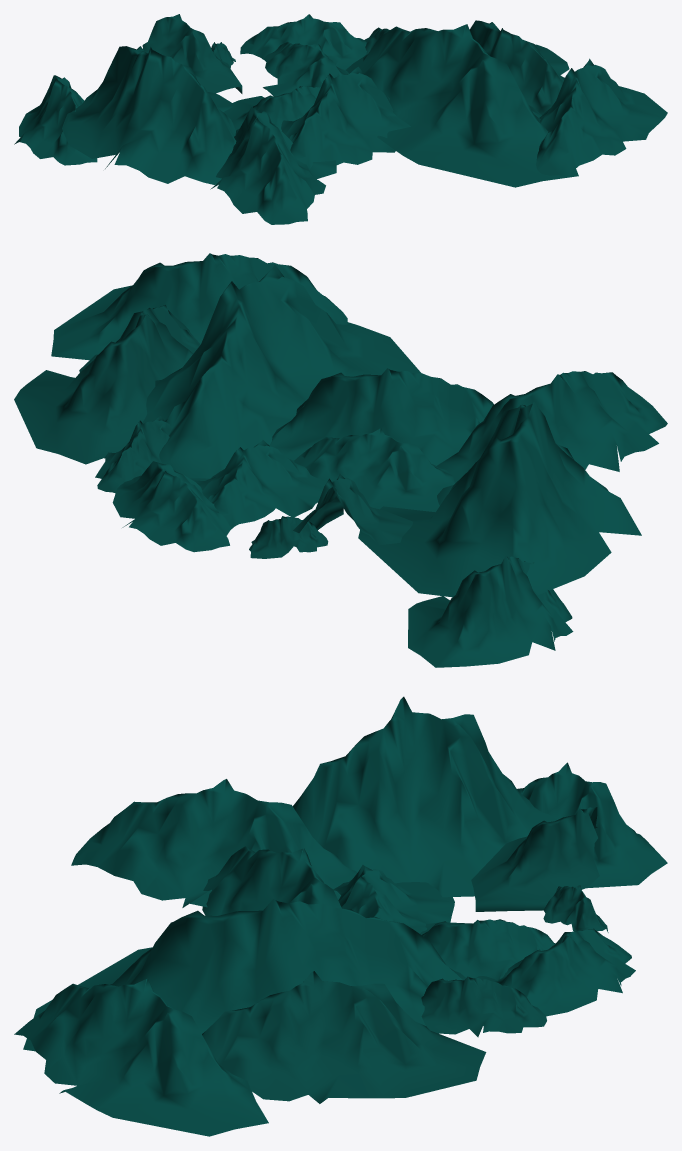
File: moutain.fbx
The picture shows the model from 3 angles, top to bottom: view 1: azimuth 30°, elevation 25°; view 2: azimuth 150°, elevation 25°; view 3: azimuth 270°, elevation 25°; orthographic projection. The views are drawn at different scales.
Parts seen in each view (by area): view 1: hillside6, hillside10, hillside5, hillside3, hillside2, hillside4, hillside11, hillside9, hillside7, hillside, hillside1, hillside12; view 2: hillside6, hillside10, hillside4, hillside2, hillside11, hillside3, hillside5, hillside1, hillside7, hillside, hillside9, hillside8 (+1 smaller); view 3: hillside10, hillside6, hillside4, hillside5, hillside3, hillside9, hillside7, hillside11, hillside2, hillside8, hillside, hillside1 (+1 smaller).
Boxes of the visible parts, x1,y1,x2,y2 form: hillside6: [345, 24, 578, 187]; hillside10: [62, 46, 236, 184]; hillside5: [535, 58, 667, 176]; hillside3: [210, 107, 336, 224]; hillside2: [281, 66, 410, 169]; hillside4: [469, 20, 569, 114]; hillside11: [14, 75, 97, 165]; hillside9: [142, 14, 242, 93]; hillside7: [240, 14, 366, 70]; hillside: [261, 41, 348, 96]; hillside1: [223, 86, 320, 130]; hillside12: [211, 42, 235, 68]; hillside6: [142, 264, 421, 478]; hillside10: [358, 401, 641, 597]; hillside4: [14, 305, 200, 464]; hillside2: [269, 368, 493, 465]; hillside11: [408, 556, 573, 667]; hillside3: [436, 371, 667, 483]; hillside5: [51, 253, 347, 360]; hillside1: [294, 428, 454, 512]; hillside7: [112, 461, 230, 552]; hillside: [194, 440, 326, 529]; hillside9: [293, 473, 412, 545]; hillside8: [95, 416, 172, 493]; hillside10: [293, 696, 556, 897]; hillside6: [23, 899, 483, 1051]; hillside4: [202, 971, 486, 1103]; hillside5: [14, 978, 268, 1136]; hillside3: [71, 779, 357, 907]; hillside9: [471, 807, 599, 911]; hillside7: [475, 928, 635, 1016]; hillside11: [517, 762, 667, 888]; hillside2: [202, 846, 341, 915]; hillside8: [421, 976, 546, 1037]; hillside: [419, 919, 555, 980]; hillside1: [333, 865, 454, 933].
Size of the model in its own units: 2984 by 719 by 2358.
